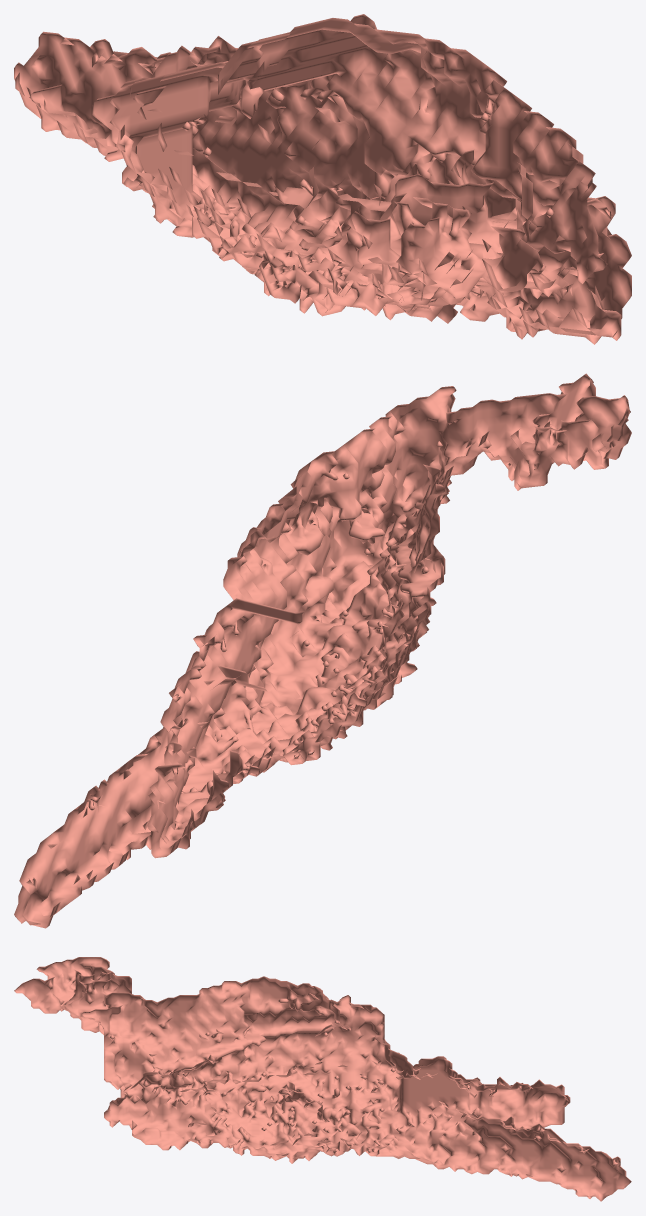
File: osteocyte_75.glb
3 views of the same model, one above another, from view 1: azimuth 30°, elevation 25°; view 2: azimuth 150°, elevation 25°; view 3: azimuth 270°, elevation 25° (orthographic). The views are drawn at different scales.
Parts seen in each view (by area): view 1: osteocyte_75; view 2: osteocyte_75; view 3: osteocyte_75.
Boxes of the visible parts, x1,y1,x2,y2 form: osteocyte_75: [14, 14, 631, 344]; osteocyte_75: [14, 373, 631, 928]; osteocyte_75: [14, 957, 631, 1201].
Bounding box in the file's own units: 16.37 × 16.85 × 52.96.
